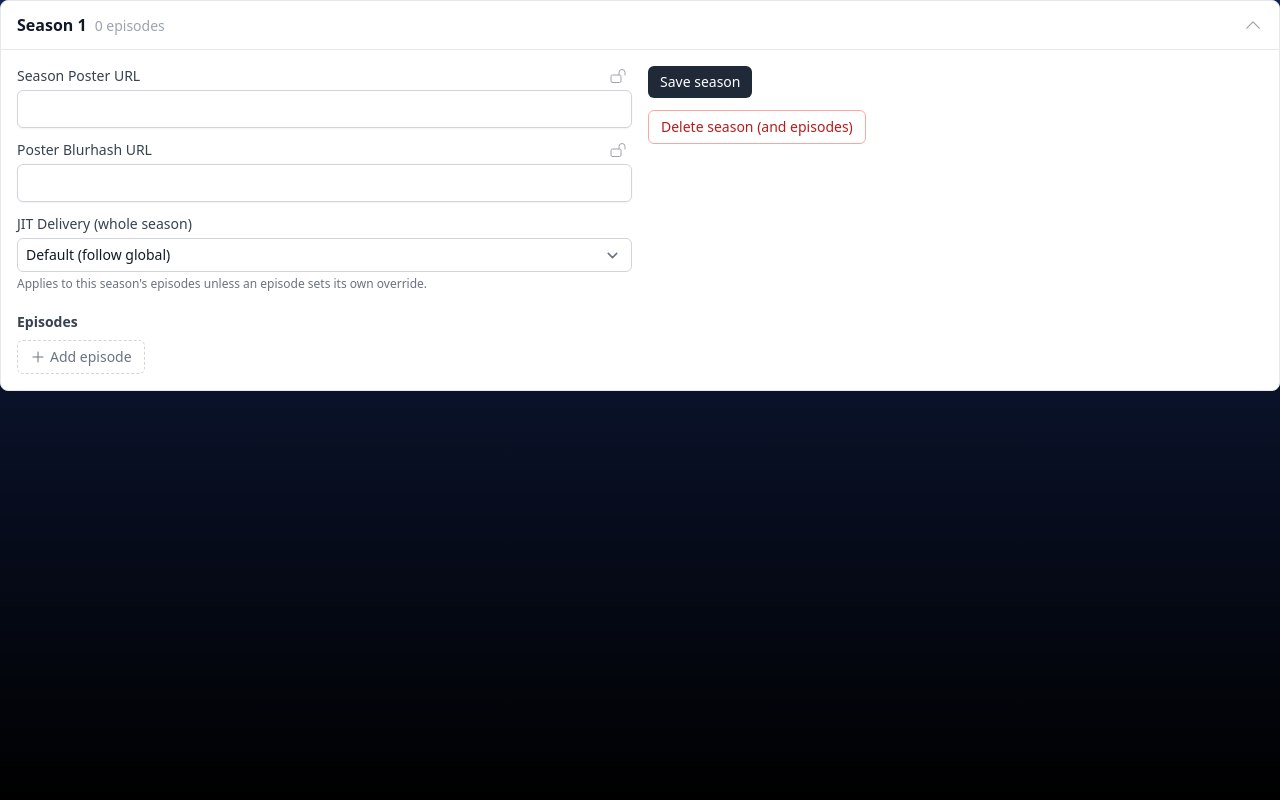
Test case: the empty error regions › take no space under the season editor's buttons, and only the one with a message joins the column
Click the button "Save season": coordinates (700, 82) [648,66,752,98]
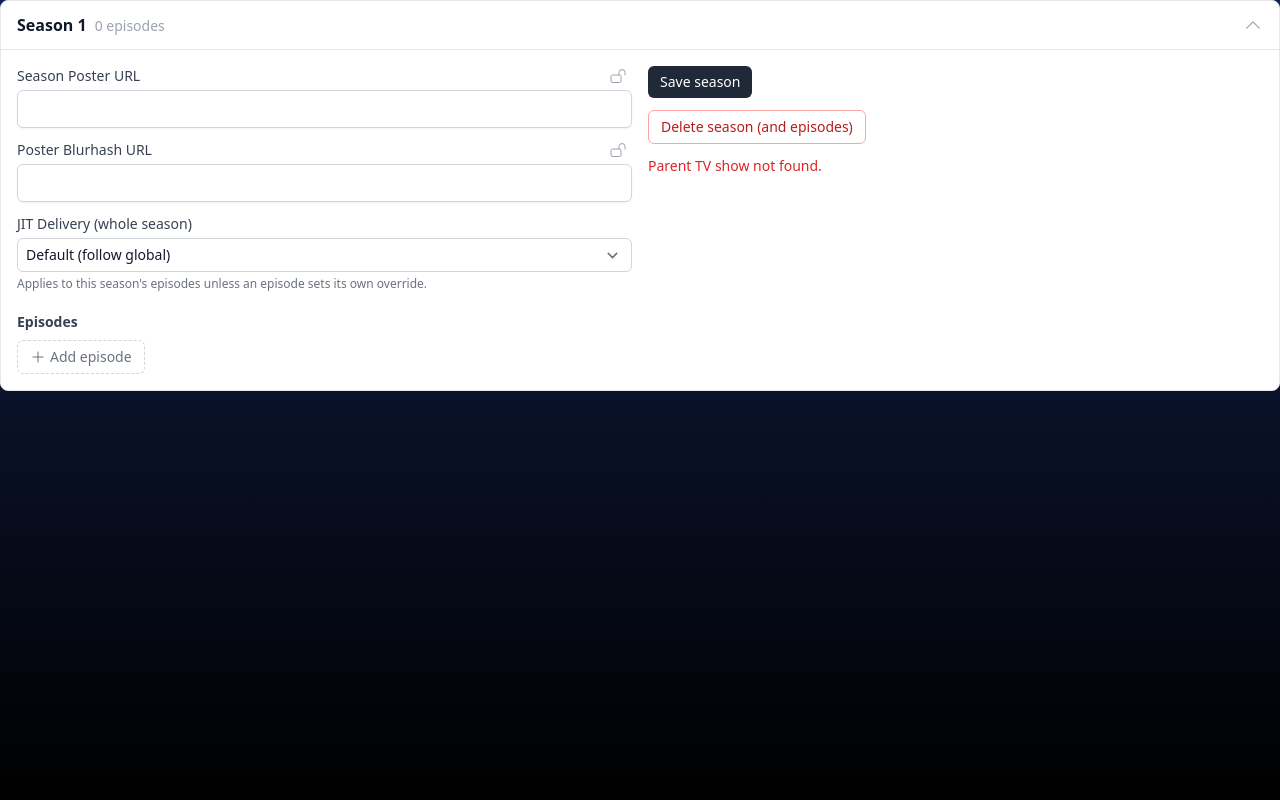
Now the message reads "Parent TV show not found.", box [648,156,822,175]
